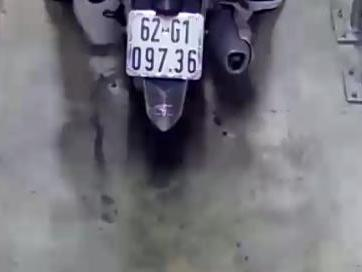num_plate: (128, 9, 204, 79)
